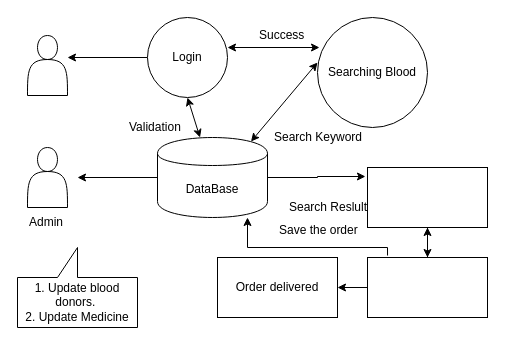
The diagram is 505 pixels wide and 345 high, and some of its shapes have lost their labels. The centre of each missing label's shape, as x and y in pixels:
"Place the order" goes at (427,287).
"View Search Details" goes at (427,197).
